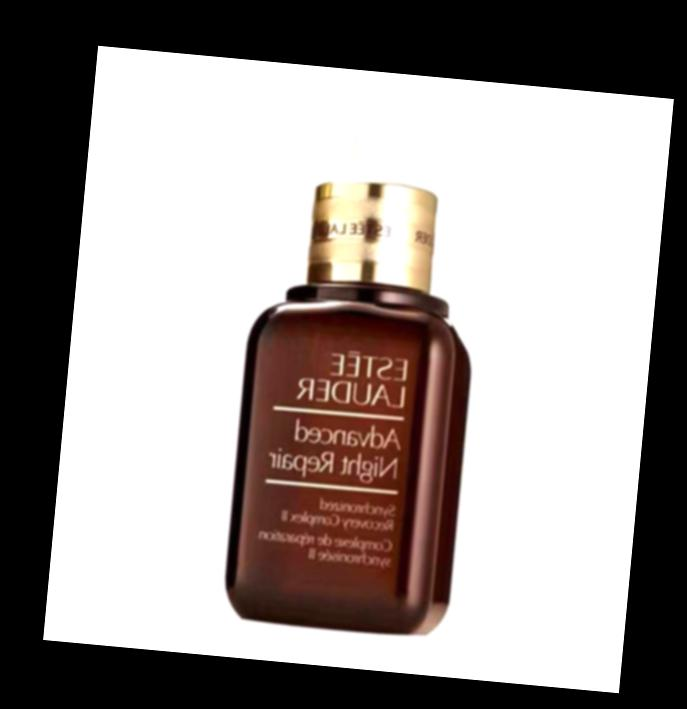cosmetic: (220, 79, 485, 630)
